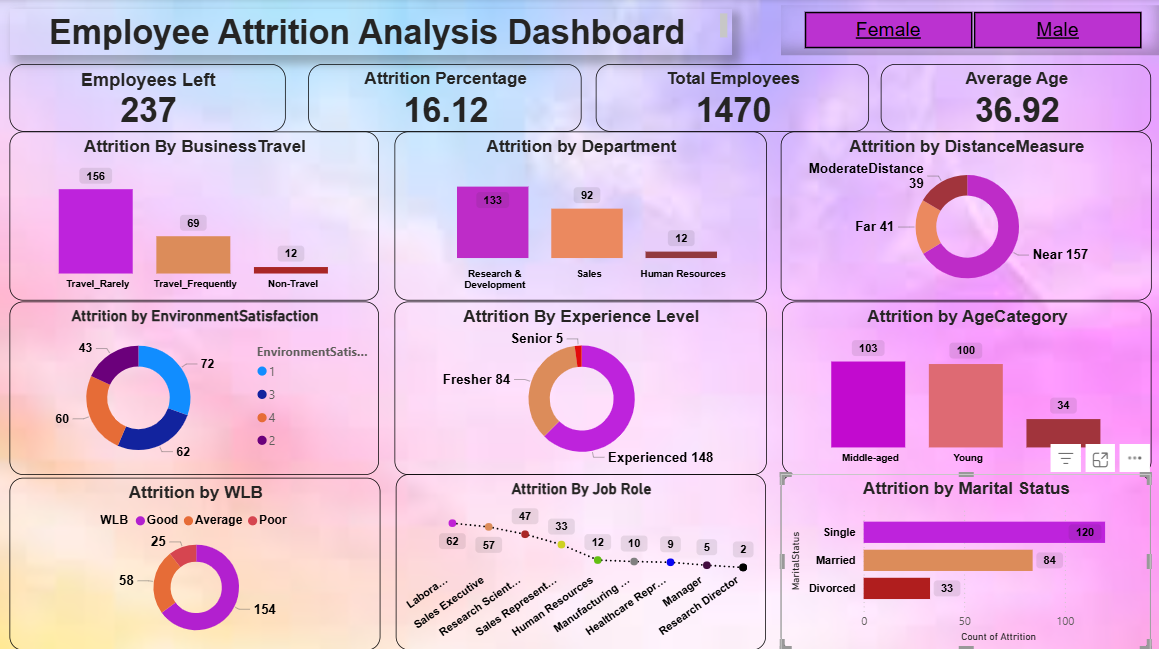

The dashboard page shown, as its layout file describes it:
{"tool":"powerbi","page":{"name":"Dashboard 1","canvas":[1280,720],"ordinal":0},"visuals":[{"type":"columnChart","title":"Attrition by Department","fields":{"Y":["CountNonNull(Attrition.Attrition)"],"Category":["Attrition.Department"]},"box":[435.7,145.7,408.6,185.7],"z":0},{"type":"columnChart","title":" Attrition by AgeCategory","fields":{"Y":["CountNonNull(Attrition.Attrition)"],"Category":["Attrition.Age_1"]},"box":[861.4,331.4,405.7,190],"z":1000},{"type":"donutChart","title":" Attrition by DistanceMeasure","fields":{"Category":["Attrition.DistanceMeasure"],"Y":["CountNonNull(Attrition.Attrition)"]},"box":[860,145.7,407.1,185.7],"z":2000},{"type":"donutChart","title":" Attrition by EnvironmentSatisfaction","fields":{"Y":["CountNonNull(Attrition.Attrition)"],"Category":["Attrition.EnvironmentSatisfaction"]},"box":[14.3,331.4,405.7,190],"z":3000},{"type":"donutChart","title":"Attrition By Experience Level","fields":{"Y":["CountNonNull(Attrition.Attrition)"],"Category":["Attrition.ExperienceLevel"]},"box":[435.7,331.4,408.6,190],"z":4000},{"type":"columnChart","title":"Attrition By BusinessTravel","fields":{"Category":["Attrition.BusinessTravel"],"Y":["CountNonNull(Attrition.Attrition)"]},"box":[14.3,145.7,405.7,185.7],"z":5000},{"type":"lineChart","title":" Attrition By Job Role","fields":{"Category":["Attrition.JobRole"],"Y":["CountNonNull(Attrition.Attrition)"]},"box":[437.1,521.4,407.1,198.6],"z":6000},{"type":"barChart","title":" Attrition by Marital Status","fields":{"Y":["CountNonNull(Attrition.Attrition)"],"Category":["Attrition.MaritalStatus"]},"box":[860,521.4,407.1,198.6],"z":7000},{"type":"card","title":"Total Employees","fields":{"Values":["CountNonNull(Attrition.EmployeeNumber)"]},"box":[657.1,71.4,300,74.3],"z":8000},{"type":"card","title":"Employees Left","fields":{"Values":["CountNonNull(Attrition.Attrition)"]},"box":[14.3,71.4,302.9,74.3],"z":9000},{"type":"card","title":"Attrition Percentage","fields":{"Values":["Attrition.Attrition Percentage"]},"box":[341.4,71.4,300,74.3],"z":10000},{"type":"card","title":"Average Age","fields":{"Values":["Avg(Attrition.Age)"]},"box":[970,71.4,297.1,74.3],"z":11000},{"type":"textbox","box":[14.3,11.4,792.9,50],"z":12000},{"type":"slicer","fields":{"Values":["Attrition.Gender"]},"box":[860,7.1,420,54.3],"z":13000},{"type":"donutChart","title":"Attrition by WLB","fields":{"Category":["Attrition.WLB"],"Y":["CountNonNull(Attrition.Attrition)"]},"box":[14.3,521.4,407.1,198.6],"z":14000}]}

Visuals, with their boxes in screenshot pixels (x1, y1, x2, y2), scaled from the page's 1280x720 canvas onto the 1159x649 screenshot:
"Attrition by Department" columnChart: [left=395, top=131, right=764, bottom=299]
" Attrition by AgeCategory" columnChart: [left=780, top=299, right=1147, bottom=470]
" Attrition by DistanceMeasure" donutChart: [left=779, top=131, right=1147, bottom=299]
" Attrition by EnvironmentSatisfaction" donutChart: [left=13, top=299, right=380, bottom=470]
"Attrition By Experience Level" donutChart: [left=395, top=299, right=764, bottom=470]
"Attrition By BusinessTravel" columnChart: [left=13, top=131, right=380, bottom=299]
" Attrition By Job Role" lineChart: [left=396, top=470, right=764, bottom=648]
" Attrition by Marital Status" barChart: [left=779, top=470, right=1147, bottom=648]
"Total Employees" card: [left=595, top=64, right=867, bottom=131]
"Employees Left" card: [left=13, top=64, right=287, bottom=131]
"Attrition Percentage" card: [left=309, top=64, right=581, bottom=131]
"Average Age" card: [left=878, top=64, right=1147, bottom=131]
textbox: [left=13, top=10, right=731, bottom=55]
slicer - Attrition.Gender: [left=779, top=6, right=1158, bottom=55]
"Attrition by WLB" donutChart: [left=13, top=470, right=382, bottom=648]
